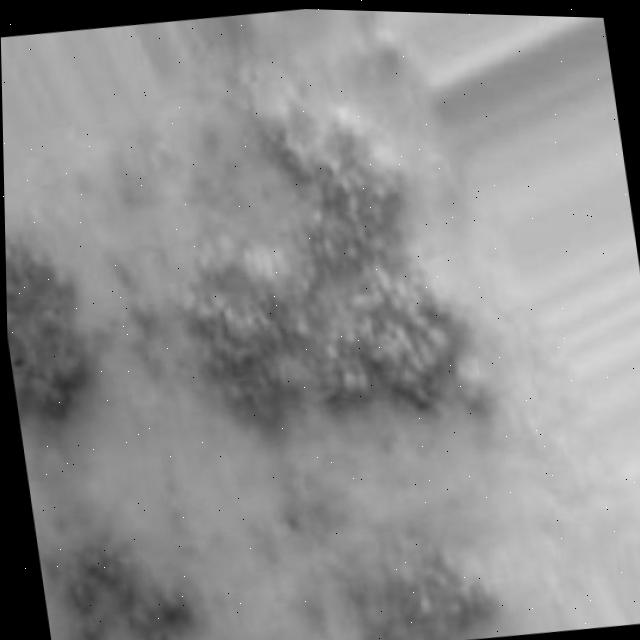Shingles: (171, 83, 479, 454), (42, 540, 210, 640), (358, 530, 494, 640), (5, 222, 80, 383)
